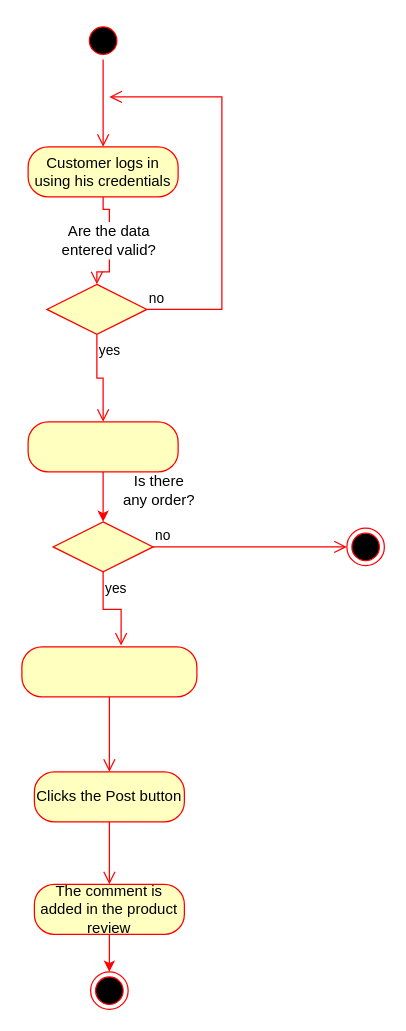
This 406x1031 diagram has some shape labels left out. Here are the shapes that lost their labels. From the top down, the centre of each, then its label:
At point 102,446: "Enter My Orders page".
At point 109,671: "Leaves a comment or a review about the product".
